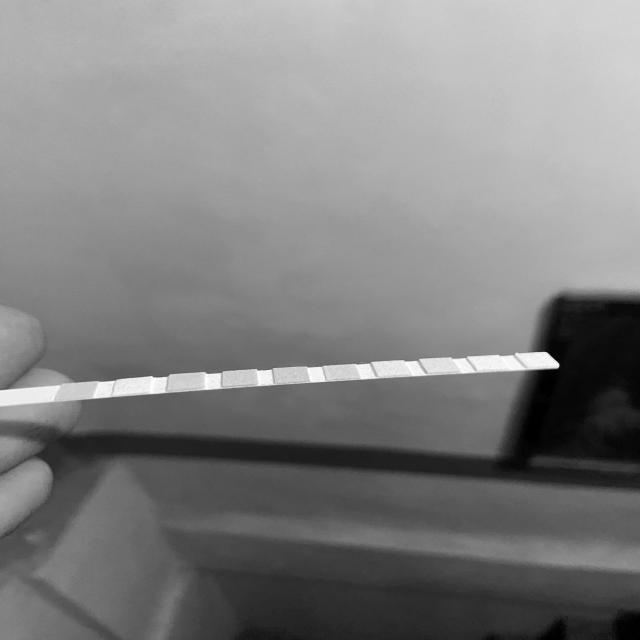Bilirubin: (116, 381, 148, 394)
Blood: (276, 369, 306, 382)
Glucose: (61, 384, 91, 397)
Ketone: (169, 374, 202, 388)
Leukocytes: (527, 353, 549, 367)
Nitrite: (478, 356, 500, 371)
Protein: (379, 362, 405, 375)
SpGravity: (224, 372, 255, 384)
Urobilinogen: (429, 358, 452, 372)
background: (0, 0, 640, 640)
pH: (327, 366, 355, 378)
strip: (0, 353, 560, 406)
